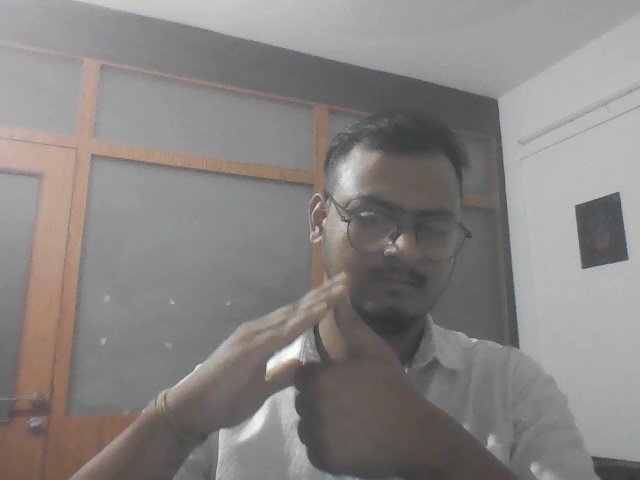I Feel You: (175, 264, 442, 474)
